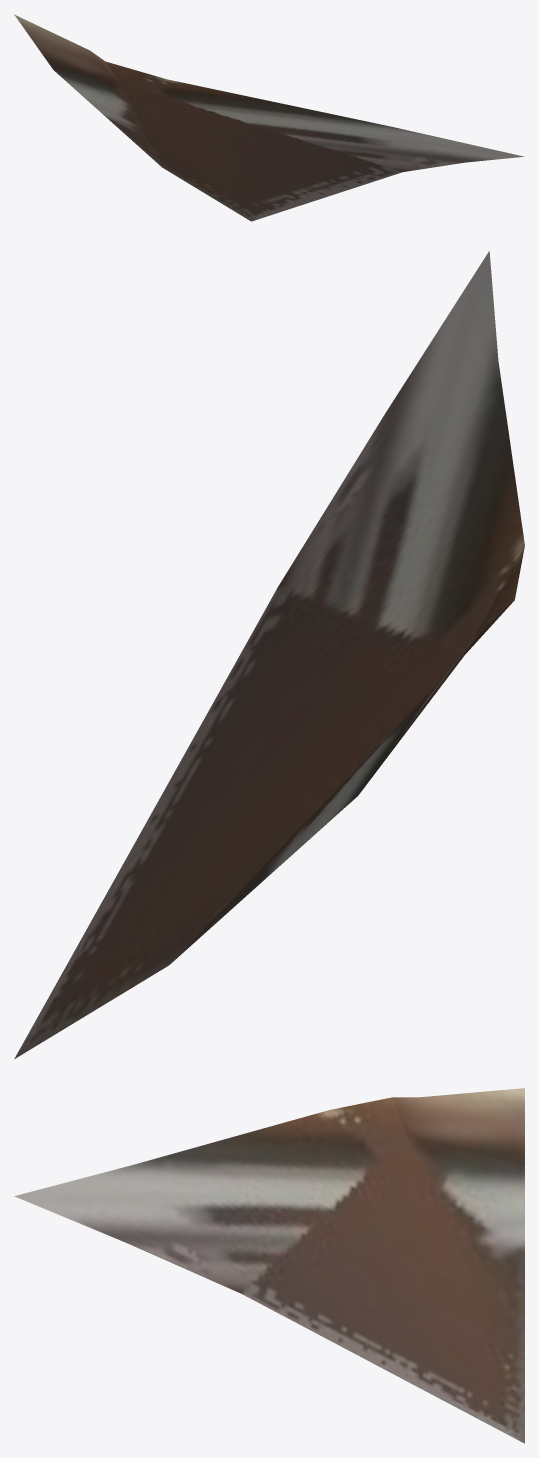
The picture shows the model from 3 angles, top to bottom: view 1: azimuth 30°, elevation 25°; view 2: azimuth 150°, elevation 25°; view 3: azimuth 270°, elevation 25°; orthographic projection. The views are drawn at different scales.
Bounding box in the file's own units: 0.3652 × 0.3899 × 0.7292.
1 material, 1 textured.
